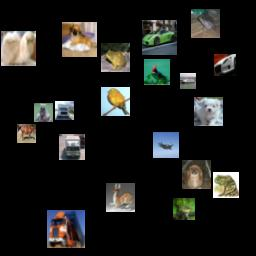airplane: (153, 132, 179, 158)
automobile: (142, 20, 177, 55), (214, 54, 236, 76)
bird: (101, 87, 130, 116), (144, 59, 170, 85), (173, 198, 195, 220)
deer: (106, 183, 135, 212)
dog: (1, 31, 36, 66), (62, 22, 97, 57), (182, 160, 211, 189), (194, 97, 223, 126), (34, 103, 53, 122)
frog: (191, 9, 220, 38), (101, 43, 130, 72), (213, 172, 239, 198)
ship: (180, 73, 196, 89)
truck: (47, 210, 85, 248), (59, 134, 85, 160), (55, 101, 74, 120)
